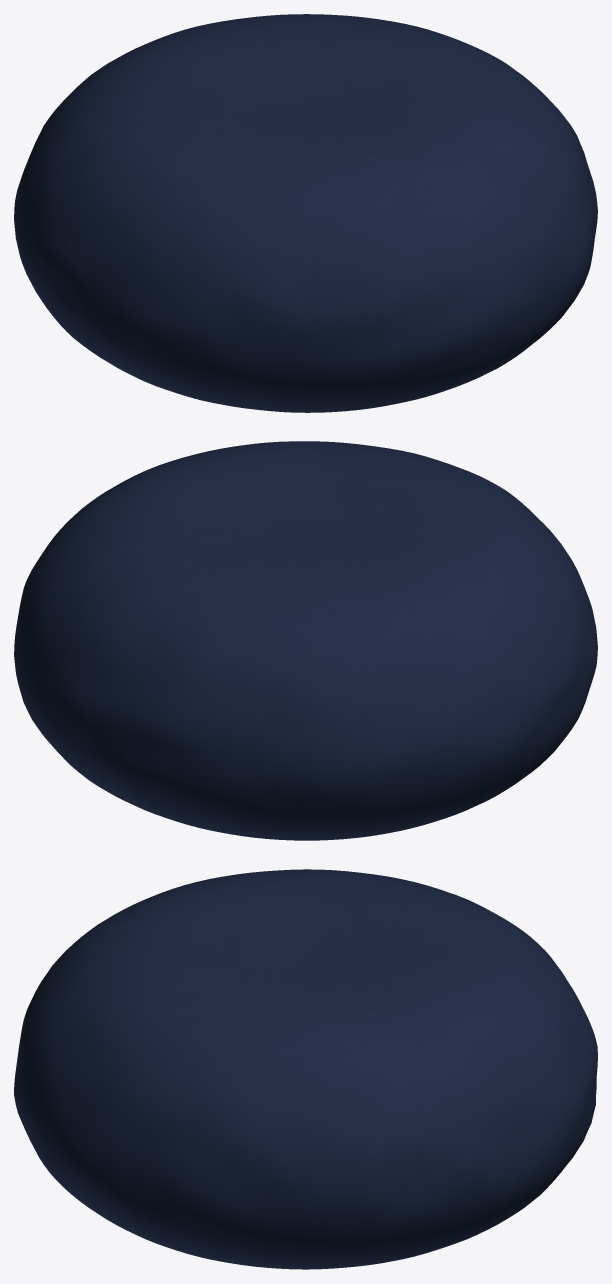
Rendered from classic-navy-velvet.glb.
3 renders of one model, top to bottom at view 1: azimuth 30°, elevation 25°; view 2: azimuth 150°, elevation 25°; view 3: azimuth 270°, elevation 25°, orthographic.
Parts seen in each view (by area): view 1: fabric_primary; view 2: fabric_primary; view 3: fabric_primary.
Boxes of the visible parts, bbox=[...] form: fabric_primary: bbox=[14, 14, 597, 412]; fabric_primary: bbox=[14, 441, 597, 840]; fabric_primary: bbox=[14, 869, 597, 1269].
Bounding box in the file's own units: 0.9594 × 0.4984 × 0.9582.
1 material, 1 textured.
